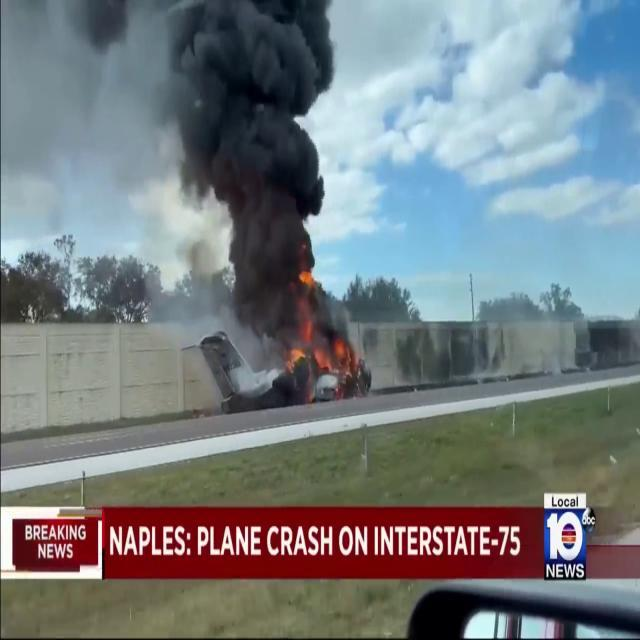Fire: (286, 328, 360, 390)
Smoke: (150, 1, 342, 337)
